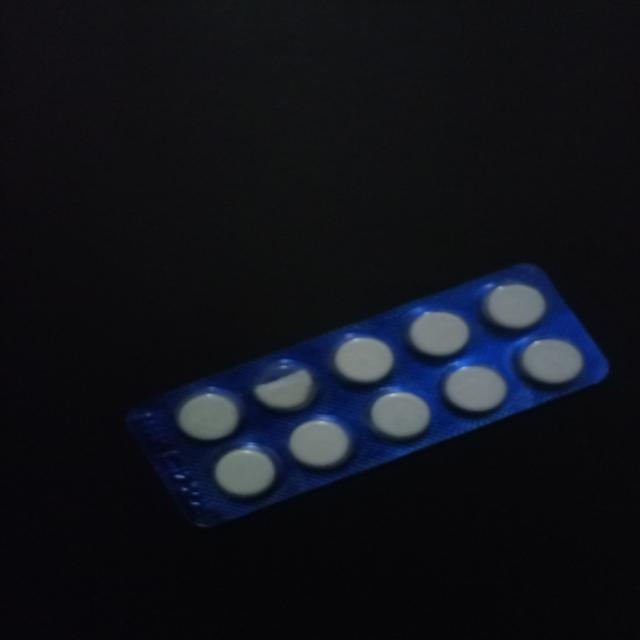defect: (248, 356, 322, 412)
